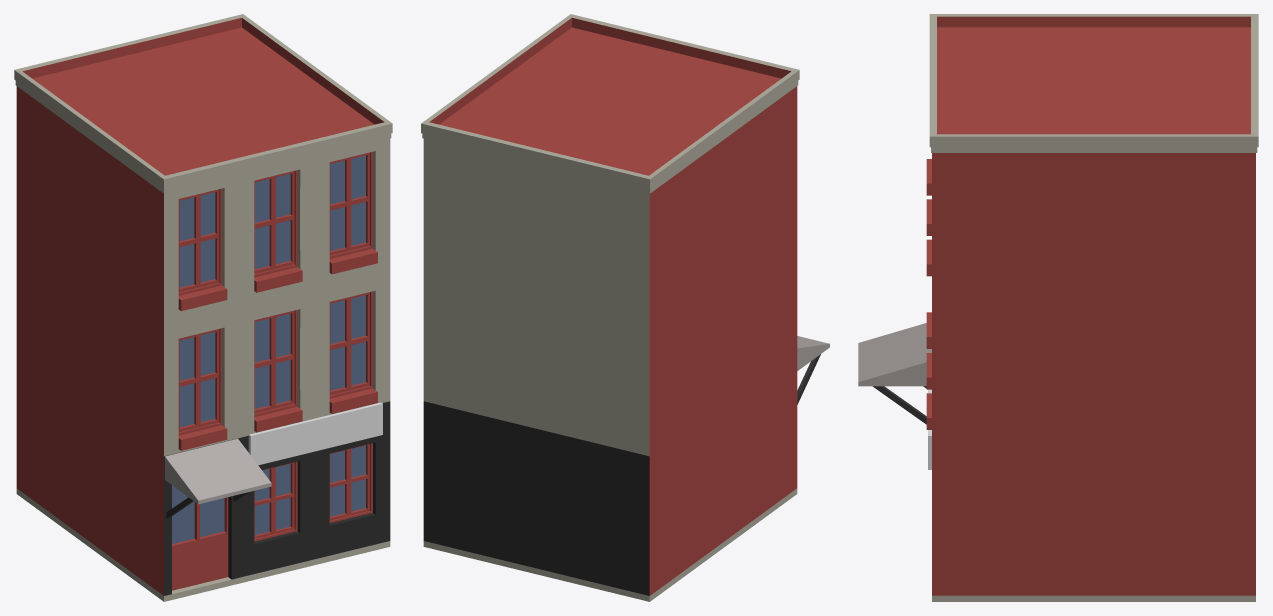
Rendered from Hotel_v1.fbx.
The picture shows the model from 3 angles, left to right: view 1: azimuth 30°, elevation 25°; view 2: azimuth 150°, elevation 25°; view 3: azimuth 270°, elevation 25°; orthographic projection. The views are drawn at different scales.
Visible parts, largest first — view 1: Hotel; view 2: Hotel; view 3: Hotel.
Part boxes in pixels (x1,y1,x2,y2): Hotel: (14,14,392,601); Hotel: (421,14,829,601); Hotel: (858,14,1258,601).
Size of the model in its own units: 508 by 899 by 700.
